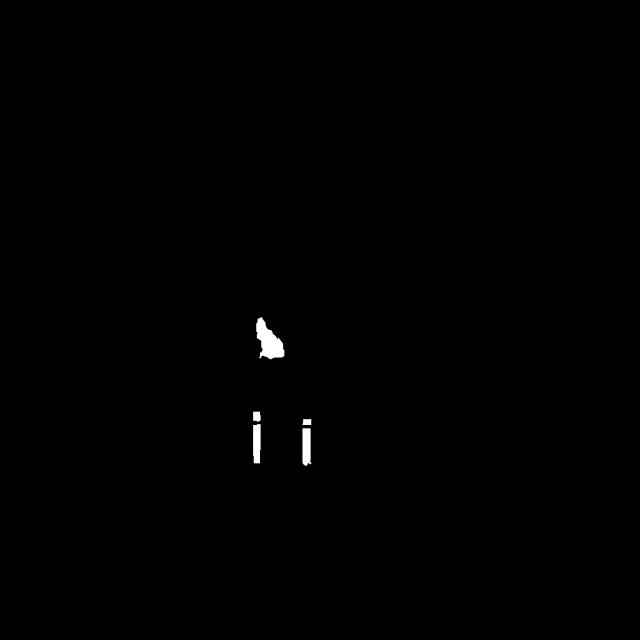fire: (222, 283, 361, 479)
